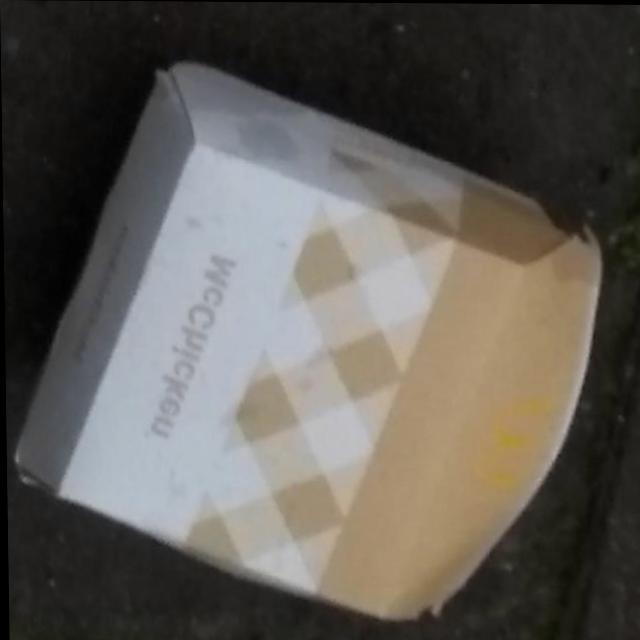Paper: (5, 50, 614, 633)
